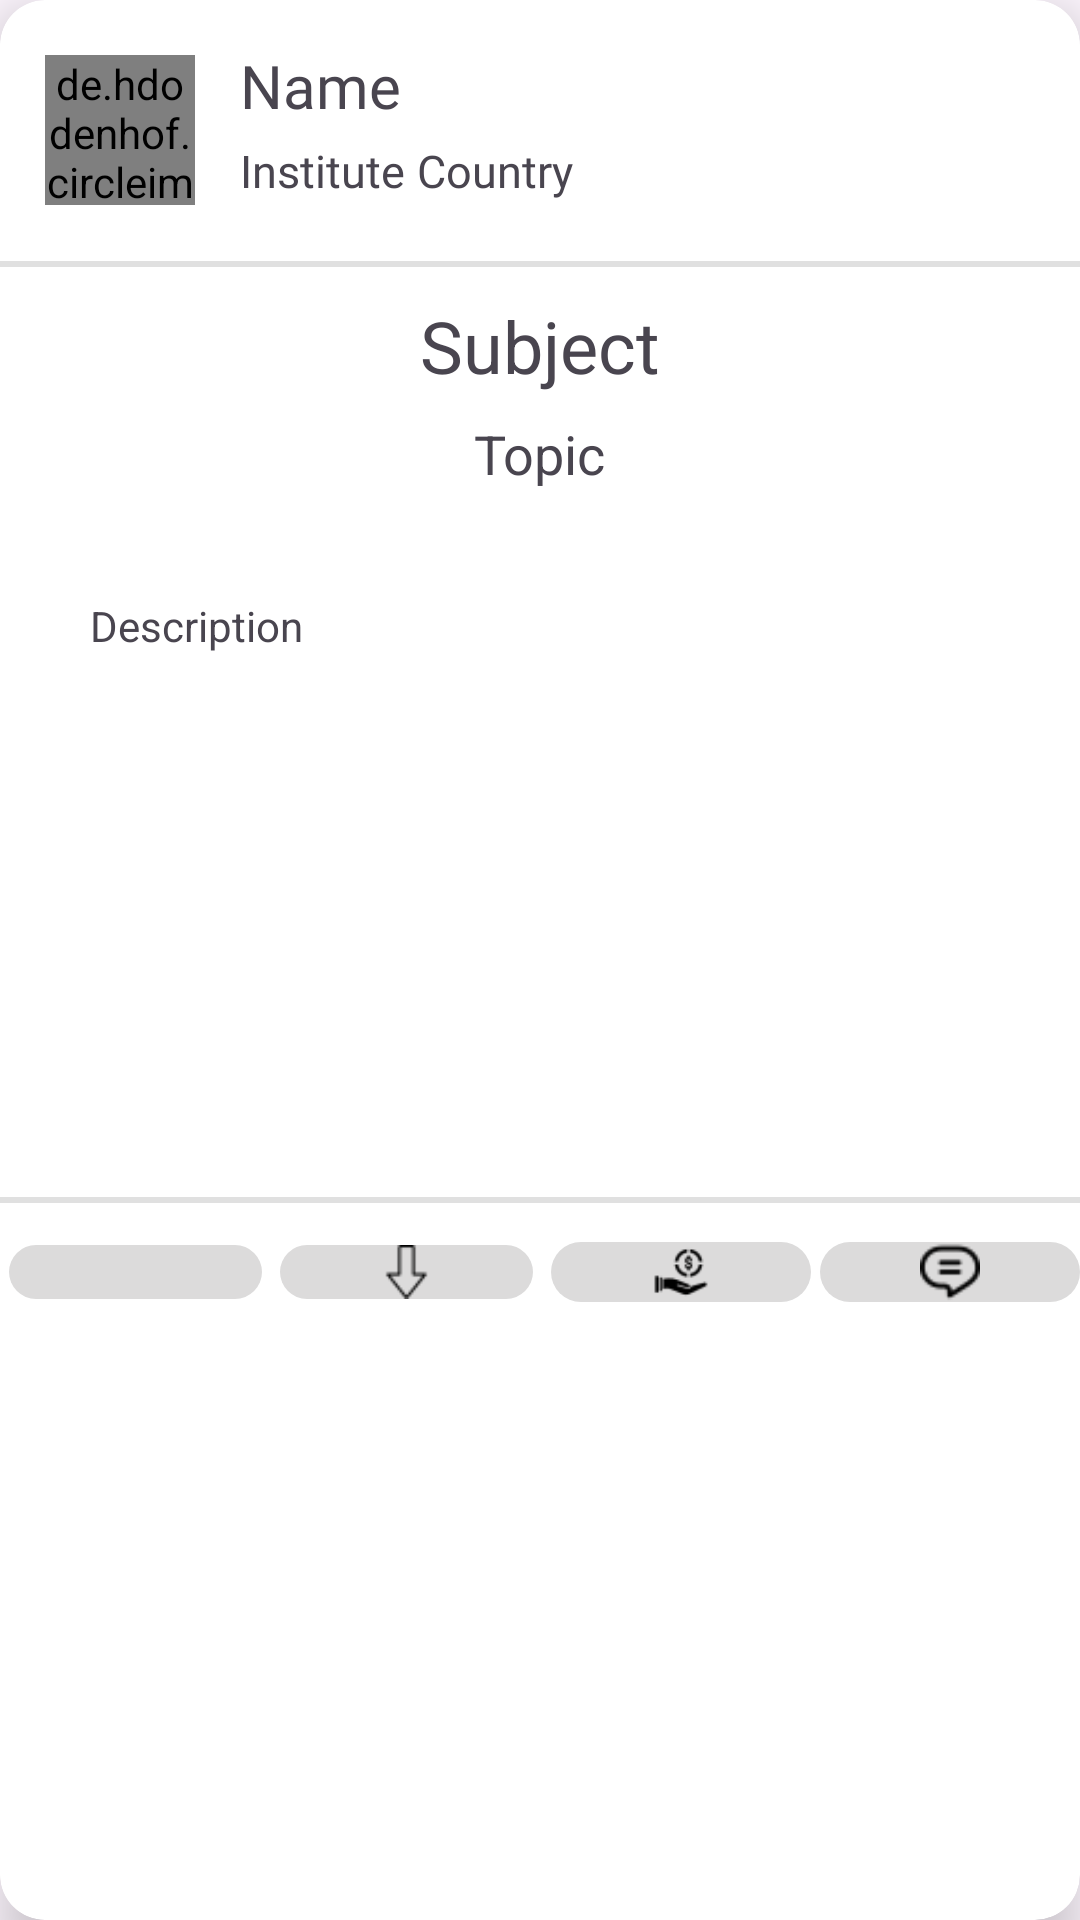

Screen size 1080x1920. Icon name, then its center in pixels as [x,y]:
contribution: [681,1272]
down: [406,1272]
speechbubble: [950,1272]
